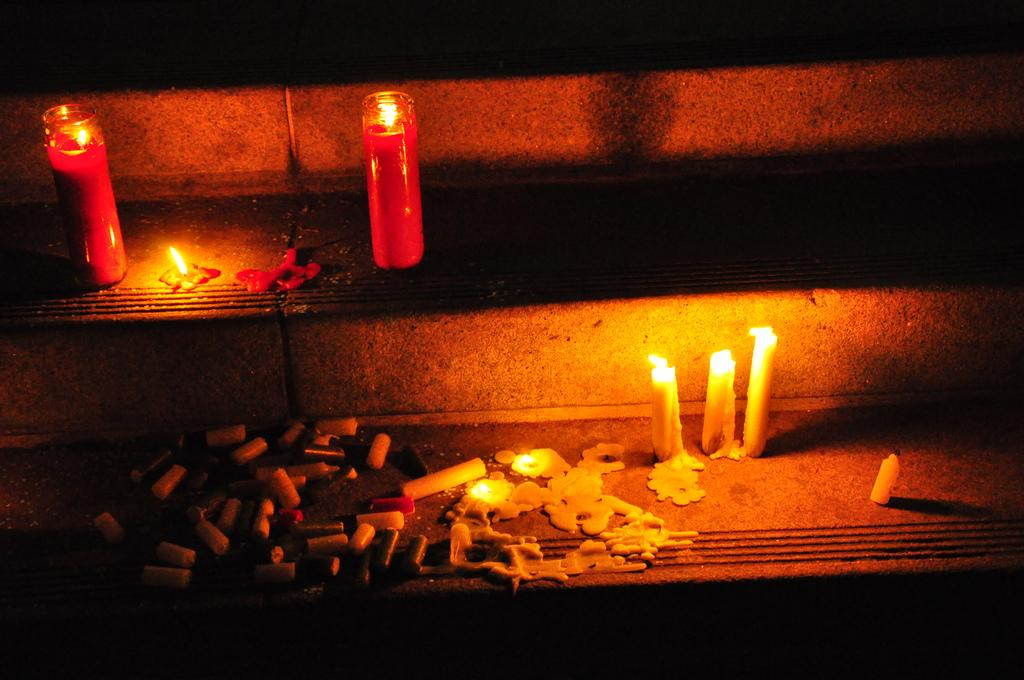fire: (643, 327, 782, 377), (163, 237, 200, 270), (252, 287, 285, 297)
